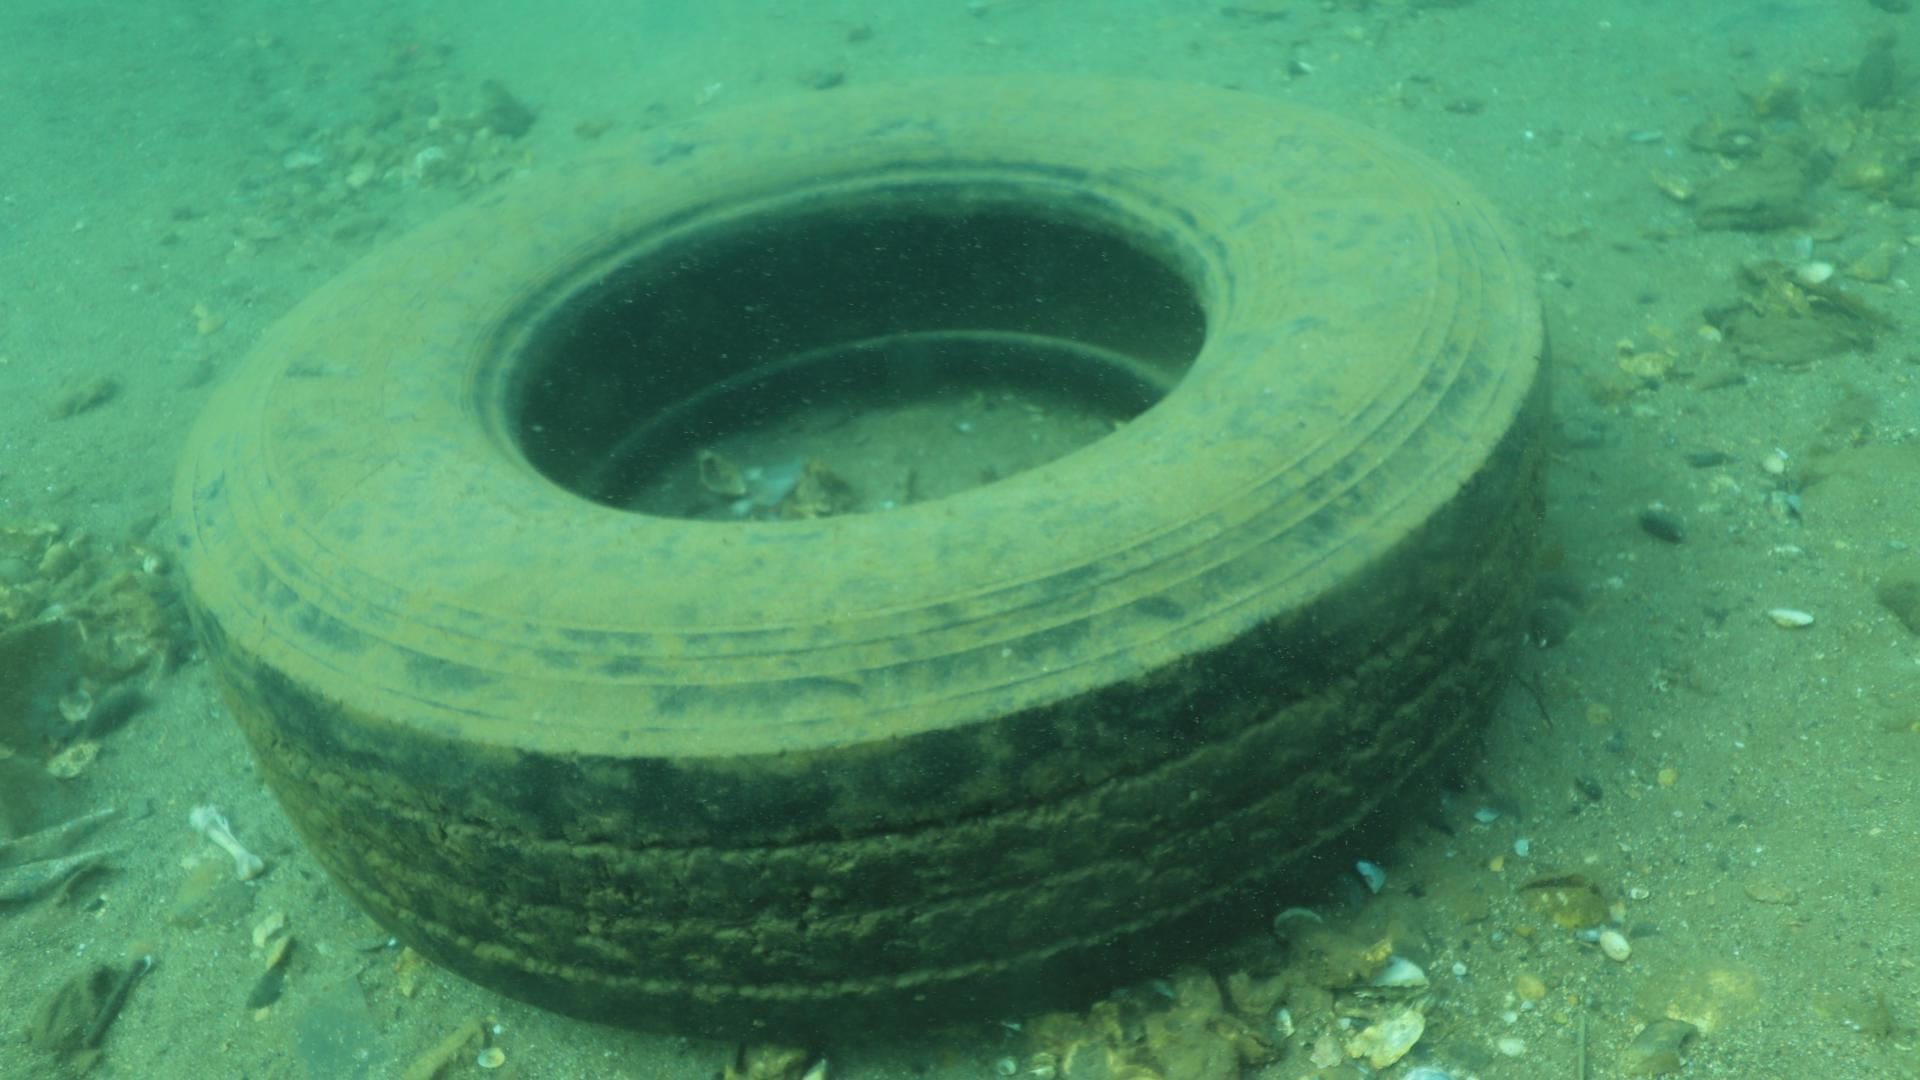tire: (167, 69, 1553, 1044)
